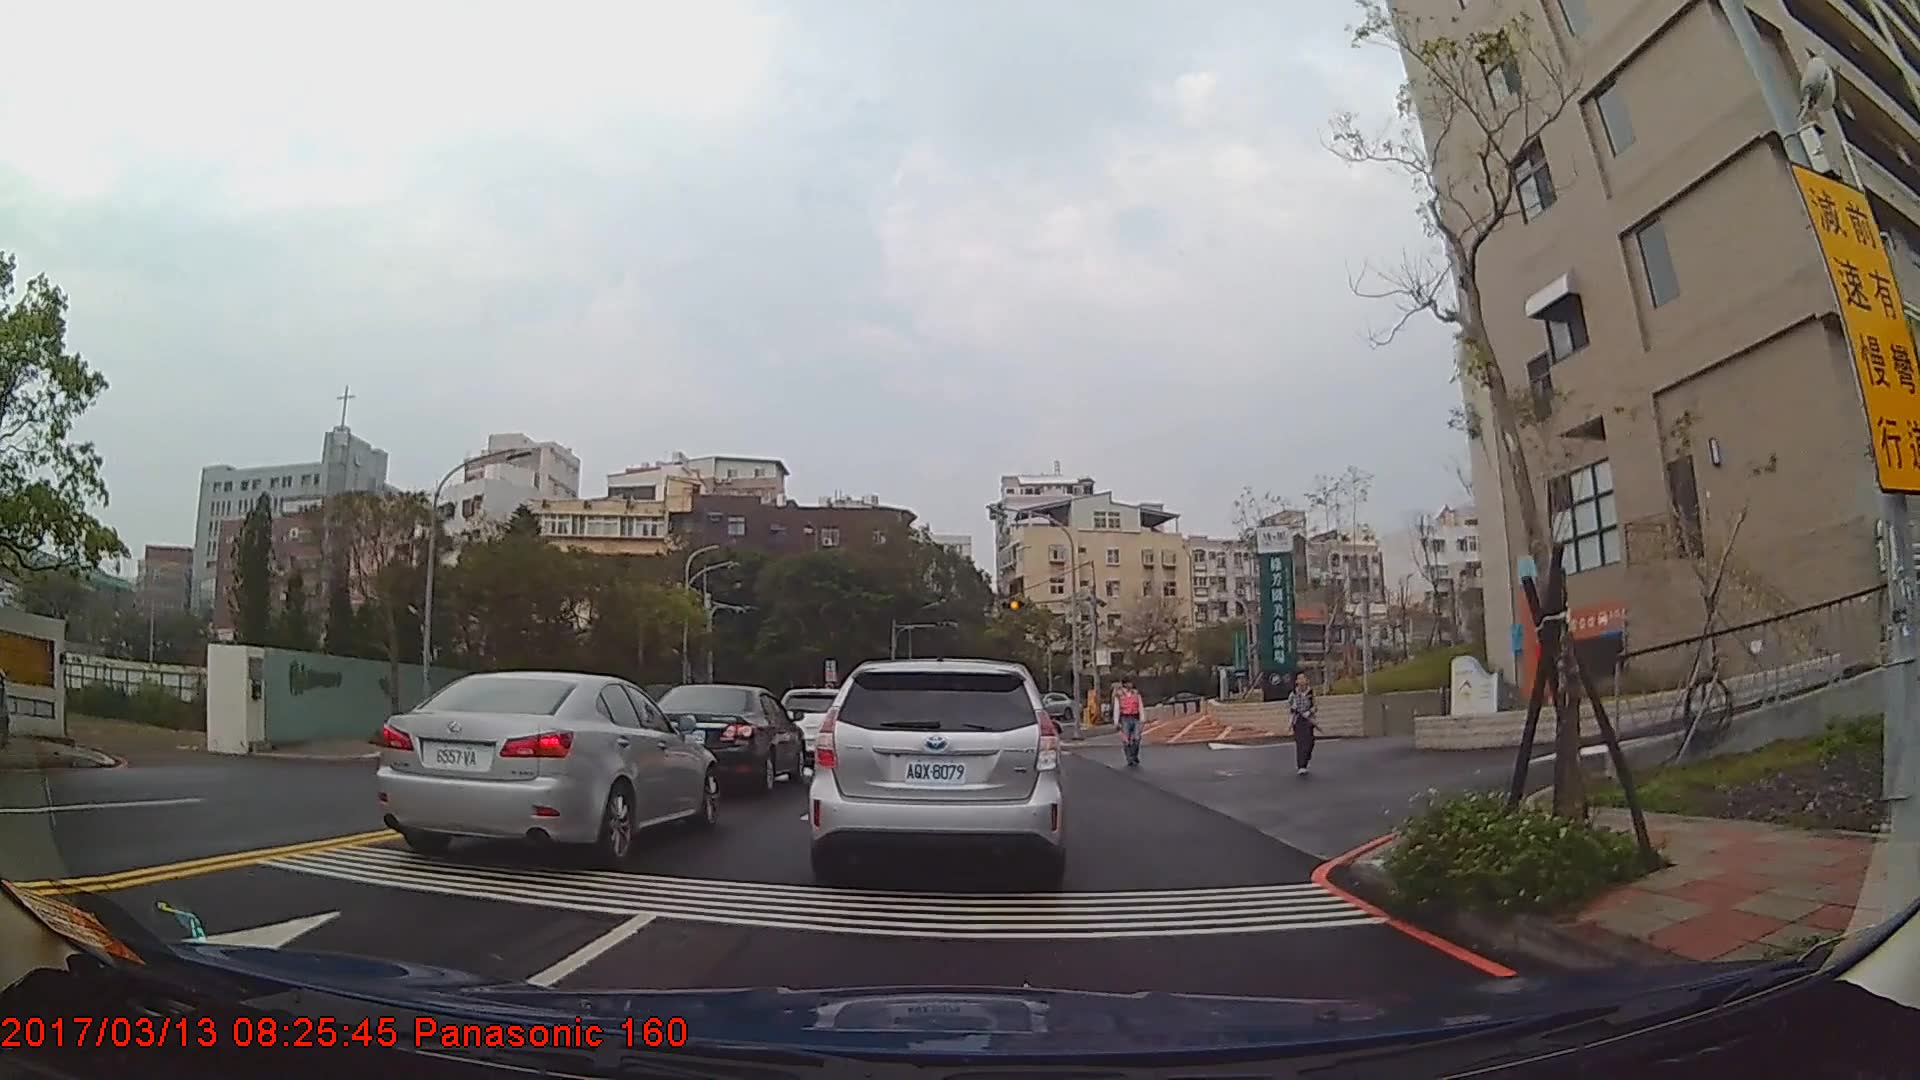pedestrian: (1289, 672, 1321, 776), (1117, 677, 1144, 768)
vehicle: (375, 669, 718, 861), (805, 655, 1065, 878), (646, 681, 806, 791)
